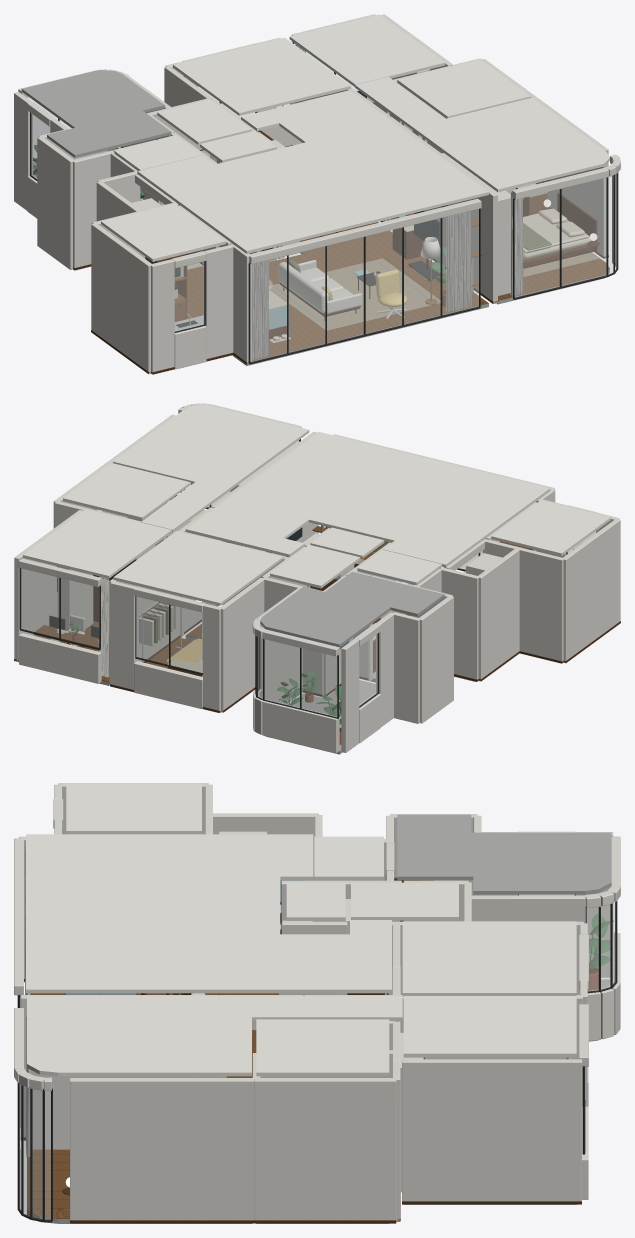
The model's file is home.glb.
3 views of the same model, one above another, from view 1: azimuth 30°, elevation 25°; view 2: azimuth 150°, elevation 25°; view 3: azimuth 270°, elevation 25° (orthographic). The views are drawn at different scales.
Parts seen in each view (by area): view 1: living | window | wall-54, living | ceiling, master | ceiling, dining | ceiling, master | window | wall-1, garden | ceiling, guest | ceiling, kitchen | wall | wall-48, study | ceiling, living | finish, bath | ceiling, craft | ceiling (+37 smaller); view 2: living | ceiling, master | ceiling, dining | ceiling, garden | ceiling, guest | ceiling, kitchen | wall | wall-48, study | ceiling, kitchen | wall | wall-42, study | window | wall-18, garden | window | wall-22, kitchen | wall | wall-56, guest | window | wall-59 (+35 smaller); view 3: master | wall | wall-0, study | wall | wall-17, living | ceiling, master | ceiling, bath | wall | wall-6, dining | ceiling, garden | ceiling, guest | ceiling, study | ceiling, bath | ceiling, craft | ceiling, kitchen | ceiling (+26 smaller).
Boxes of the visible parts, bbox=[...] form: living | window | wall-54: bbox=[249, 208, 480, 364]; living | ceiling: bbox=[244, 121, 488, 230]; master | ceiling: bbox=[355, 77, 609, 192]; dining | ceiling: bbox=[137, 155, 340, 253]; master | window | wall-1: bbox=[513, 177, 608, 299]; garden | ceiling: bbox=[21, 70, 171, 157]; guest | ceiling: bbox=[173, 37, 350, 115]; kitchen | wall | wall-48: bbox=[91, 223, 151, 374]; study | ceiling: bbox=[289, 14, 445, 86]; living | finish: bbox=[269, 232, 488, 339]; bath | ceiling: bbox=[397, 59, 530, 118]; craft | ceiling: bbox=[241, 90, 391, 142]; living | ceiling: bbox=[226, 432, 459, 535]; master | ceiling: bbox=[113, 405, 309, 532]; dining | ceiling: bbox=[368, 466, 550, 567]; garden | ceiling: bbox=[260, 572, 444, 647]; guest | ceiling: bbox=[113, 531, 283, 605]; kitchen | wall | wall-48: bbox=[563, 518, 620, 663]; study | ceiling: bbox=[23, 509, 171, 578]; kitchen | wall | wall-42: bbox=[482, 539, 563, 663]; study | window | wall-18: bbox=[19, 568, 100, 649]; garden | window | wall-22: bbox=[263, 639, 338, 718]; kitchen | wall | wall-56: bbox=[477, 548, 519, 681]; guest | window | wall-59: bbox=[135, 596, 202, 674]; master | wall | wall-0: bbox=[70, 1078, 254, 1223]; study | wall | wall-17: bbox=[402, 1059, 581, 1204]; living | ceiling: bbox=[26, 894, 280, 993]; master | ceiling: bbox=[27, 995, 402, 1076]; bath | wall | wall-6: bbox=[254, 1078, 396, 1223]; dining | ceiling: bbox=[26, 834, 313, 894]; garden | ceiling: bbox=[397, 814, 611, 894]; guest | ceiling: bbox=[402, 921, 576, 996]; study | ceiling: bbox=[403, 996, 576, 1057]; bath | ceiling: bbox=[256, 1019, 389, 1076]; craft | ceiling: bbox=[280, 920, 391, 993]; kitchen | ceiling: bbox=[66, 783, 201, 834].
Size of the model in its own units: 13.48 by 3.18 by 11.57.
173 materials, 11 textured.
